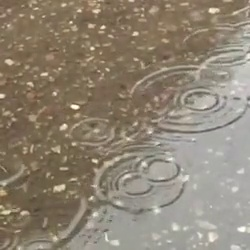drop: (200, 49, 250, 107), (182, 28, 249, 69), (137, 156, 179, 185), (71, 119, 113, 146), (118, 171, 155, 199), (182, 88, 220, 113), (1, 154, 26, 186), (20, 236, 57, 249), (1, 226, 20, 250)
